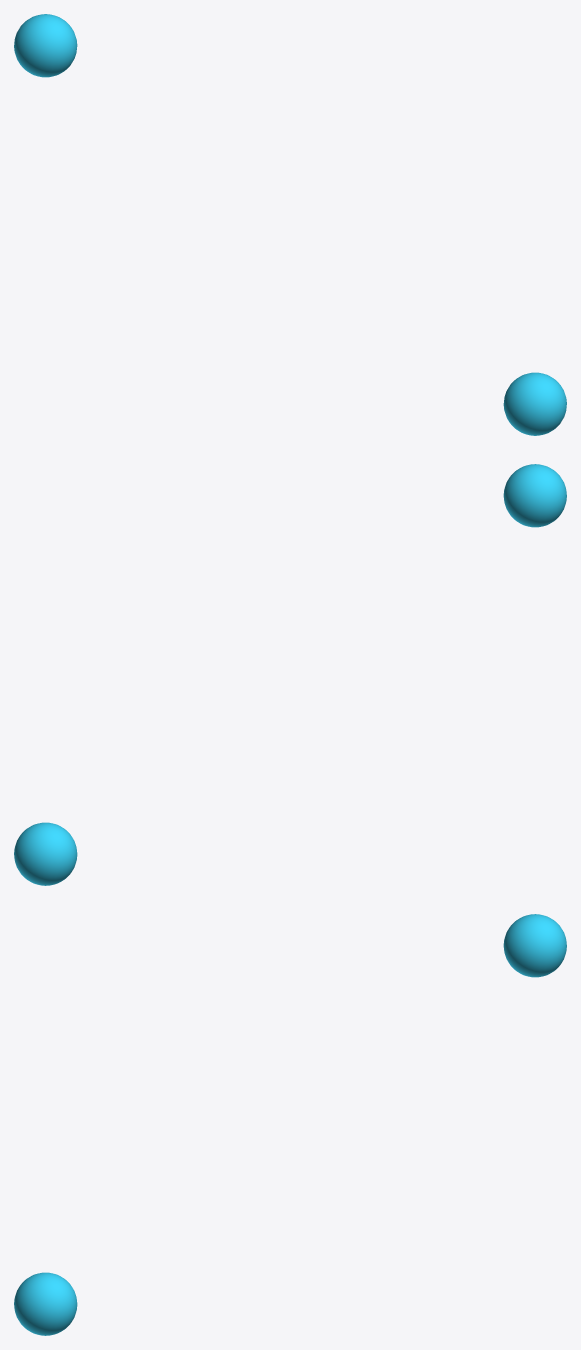
3 renders of one model, top to bottom at view 1: azimuth 30°, elevation 25°; view 2: azimuth 150°, elevation 25°; view 3: azimuth 330°, elevation 25°, orthographic.
Visible parts, largest first — view 1: Sphere048; view 2: Sphere048; view 3: Sphere048.
Boxes of the visible parts, bbox=[...] form: Sphere048: bbox=[14, 14, 566, 435]; Sphere048: bbox=[14, 464, 566, 885]; Sphere048: bbox=[14, 914, 566, 1335].
Bounding box in the file's own units: 8.19 × 8.22 × 135.
